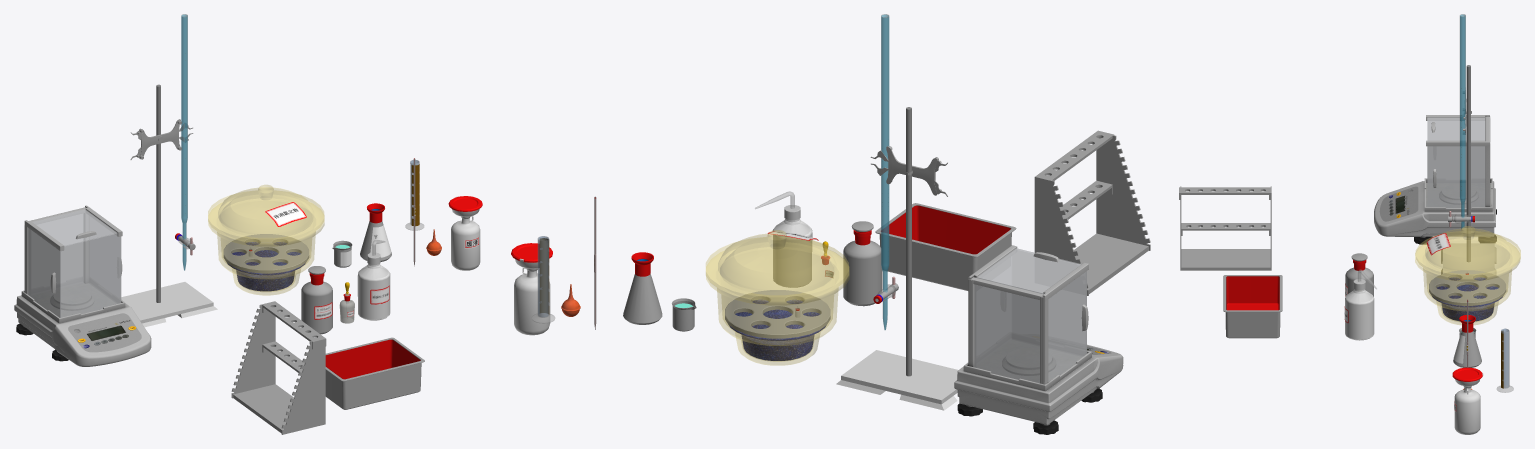
Rendered from lvhuawu.fbx.
3 renders of one model, left to right at view 1: azimuth 30°, elevation 25°; view 2: azimuth 150°, elevation 25°; view 3: azimuth 270°, elevation 25°, orthographic. The views are drawn at different scales.
Visible parts, largest first — view 1: pasted__polySurface2 (×3), pasted__pasted__pasted__pasted__TEMPORARY_IMPORT_NAMESPACE_移, pasted__polySurface1, pasted__polySurface64, jiqi:pasted__GDryerH, yiqiyuceshi_2:pasted__pasted__pasted__pasted__pasted__pasted, pasted__polySurface3 (×2), pasted__polySurface16, pasted__polySurface15, pasted__polySurface10, pasted__polySurface8, shou:ynsj_3:pfo:pfo:pasted__polySurface116 (+15 smaller); view 2: pasted__polySurface1, pasted__polySurface2 (×3), pasted__pasted__pasted__pasted__TEMPORARY_IMPORT_NAMESPACE_移, jiqi:pasted__GDryerH, yiqiyuceshi_2:pasted__pasted__pasted__pasted__pasted__pasted, pasted__polySurface64, pasted__polySurface16, pasted__polySurface3 (×2), pasted__polySurface15, pasted__polySurface12 (×2), pasted__polySurface10, pasted__polySurface8 (+13 smaller); view 3: pasted__polySurface1, pasted__polySurface64, jiqi:pasted__GDryerH, pasted__pasted__pasted__pasted__TEMPORARY_IMPORT_NAMESPACE_移, pasted__polySurface8, pasted__polySurface3 (×2), pasted__polySurface2 (×2), yiqiyuceshi_2:pasted__pasted__pasted__pasted__pasted__pasted, pasted__polySurface10, pasted__polySurface15, shou:ynsj_3:pfo:pfo:pasted__polySurface116, pasted__pasted__polySurface1 (+13 smaller).
Boxes of the visible parts, box(x1,y1,x2,y2) form: pasted__polySurface2 (×3): box(60, 233, 424, 409); pasted__pasted__pasted__pasted__TEMPORARY_IMPORT_NAMESPACE_移: box(231, 301, 326, 434); pasted__polySurface1: box(208, 198, 324, 295); pasted__polySurface64: box(14, 295, 151, 366); jiqi:pasted__GDryerH: box(208, 185, 323, 242); yiqiyuceshi_2:pasted__pasted__pasted__pasted__pasted__pasted: box(121, 84, 217, 327); pasted__polySurface3 (×2): box(236, 270, 420, 379); pasted__polySurface16: box(32, 214, 82, 294); pasted__polySurface15: box(223, 234, 309, 273); pasted__polySurface10: box(28, 228, 60, 317); pasted__polySurface8: box(89, 216, 121, 303); shou:ynsj_3:pfo:pfo:pasted__polySurface116: box(178, 14, 193, 270); pasted__polySurface1: box(706, 247, 849, 365); pasted__polySurface2 (×3): box(729, 203, 1086, 355); pasted__pasted__pasted__pasted__TEMPORARY_IMPORT_NAMESPACE_移: box(1034, 130, 1150, 295); jiqi:pasted__GDryerH: box(706, 230, 848, 300); yiqiyuceshi_2:pasted__pasted__pasted__pasted__pasted__pasted: box(836, 107, 958, 410); pasted__polySurface64: box(954, 344, 1123, 424); pasted__polySurface16: box(974, 284, 1039, 383); pasted__polySurface3 (×2): box(742, 205, 1010, 360); pasted__polySurface15: box(725, 290, 830, 338); pasted__polySurface12 (×2): box(672, 248, 1081, 331); pasted__polySurface10: box(1048, 271, 1086, 381); pasted__polySurface8: box(977, 257, 1010, 363); pasted__polySurface1: box(1415, 238, 1519, 324); pasted__polySurface64: box(1374, 181, 1495, 236); jiqi:pasted__GDryerH: box(1416, 226, 1520, 277); pasted__pasted__pasted__pasted__TEMPORARY_IMPORT_NAMESPACE_移: box(1179, 186, 1271, 270); pasted__polySurface8: box(1427, 146, 1485, 208); pasted__polySurface3 (×2): box(1226, 276, 1494, 321); pasted__polySurface2 (×2): box(1223, 275, 1502, 338); yiqiyuceshi_2:pasted__pasted__pasted__pasted__pasted__pasted: box(1441, 65, 1496, 275); pasted__polySurface10: box(1428, 121, 1484, 182); pasted__polySurface15: box(1429, 270, 1506, 305); shou:ynsj_3:pfo:pfo:pasted__polySurface116: box(1455, 14, 1468, 228); pasted__pasted__polySurface1: box(1345, 289, 1374, 340).
Bounding box in the file's own units: 138 × 94.15 × 100.
